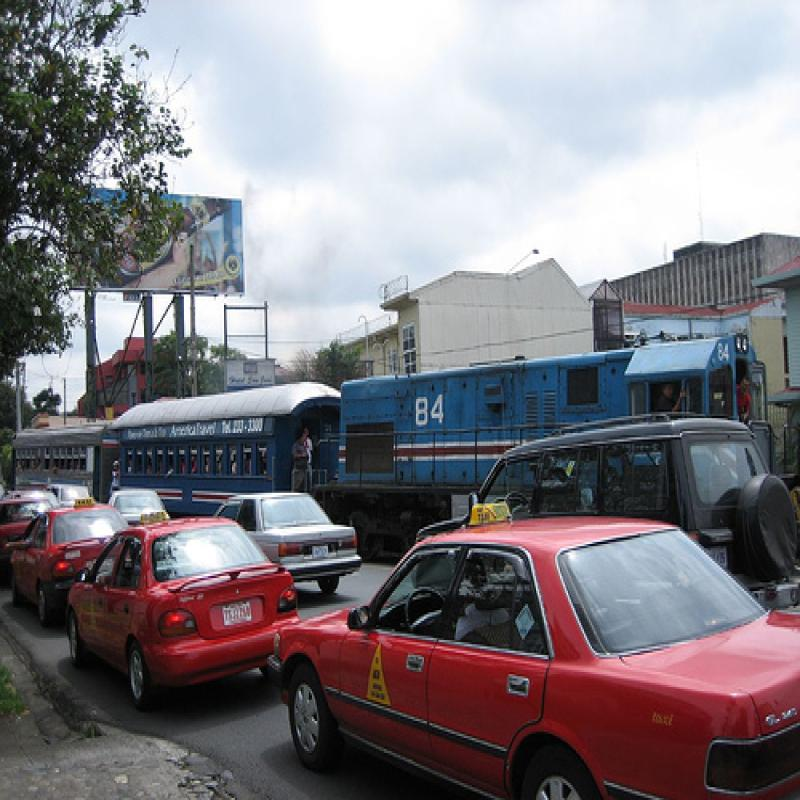train: (14, 334, 777, 564)
